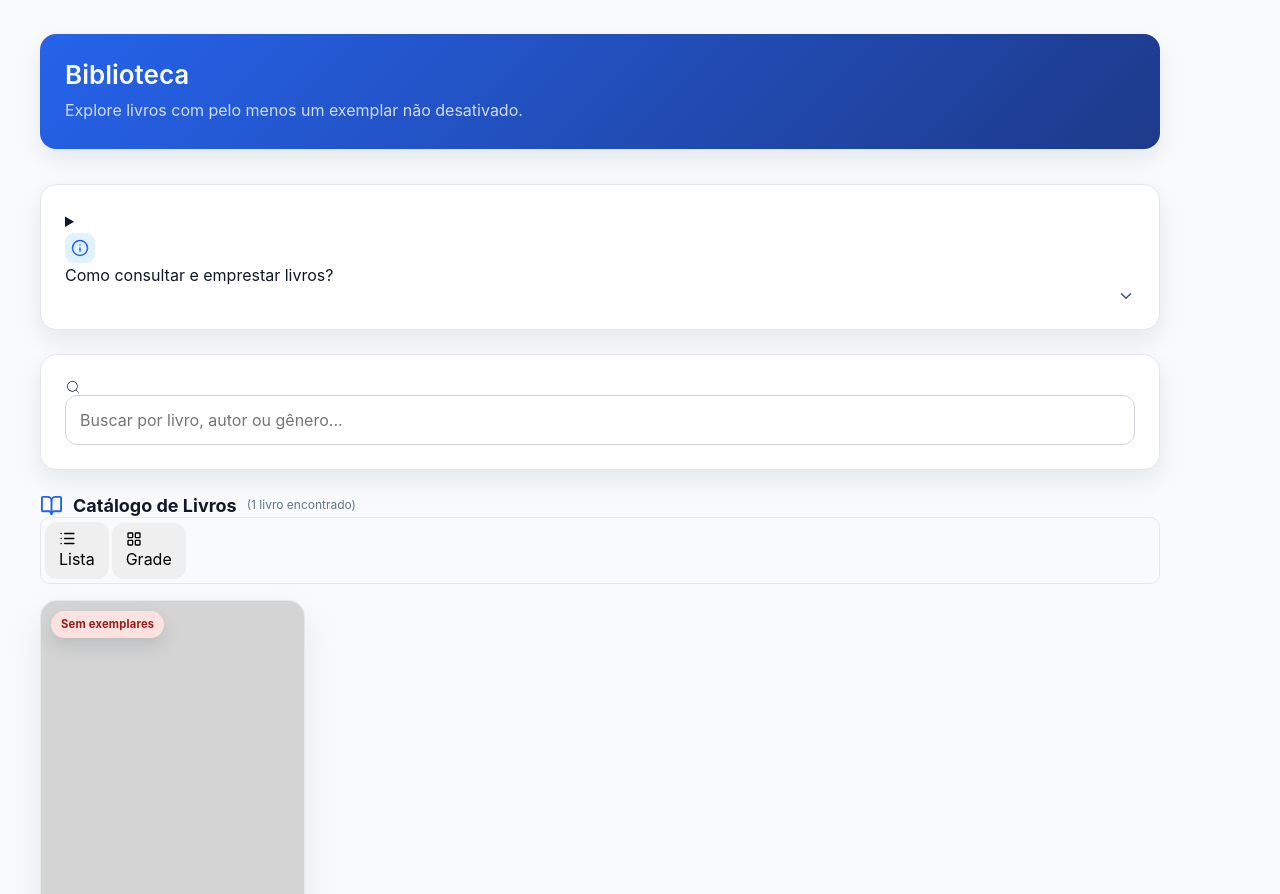
Test: permite alternar entre Grade e Lista sem alterar a pesquisa paginada
Click the button "Lista" at (77, 551), box [45,522,109,579]
(page scrolled)
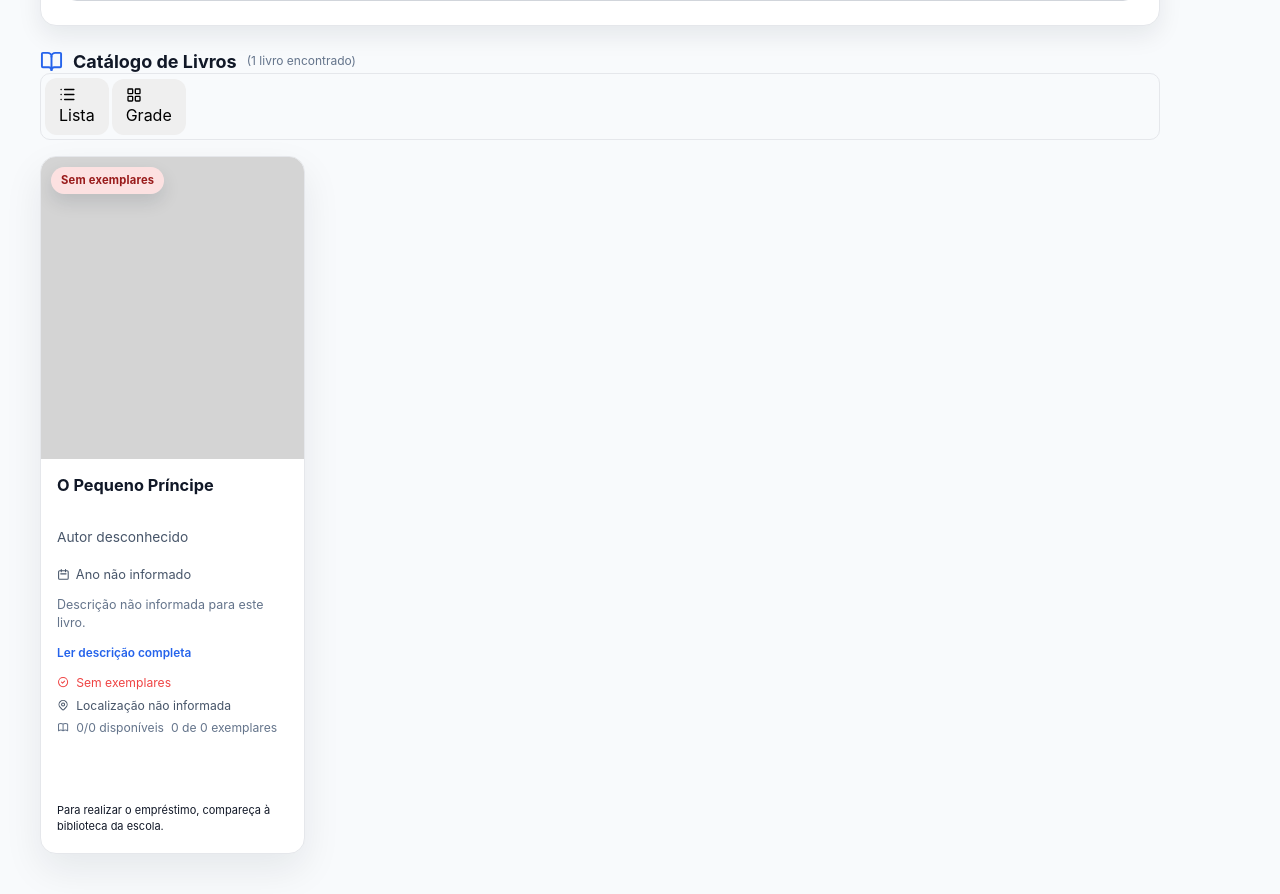
Now the element with class "user-library-results--lista" is shown
